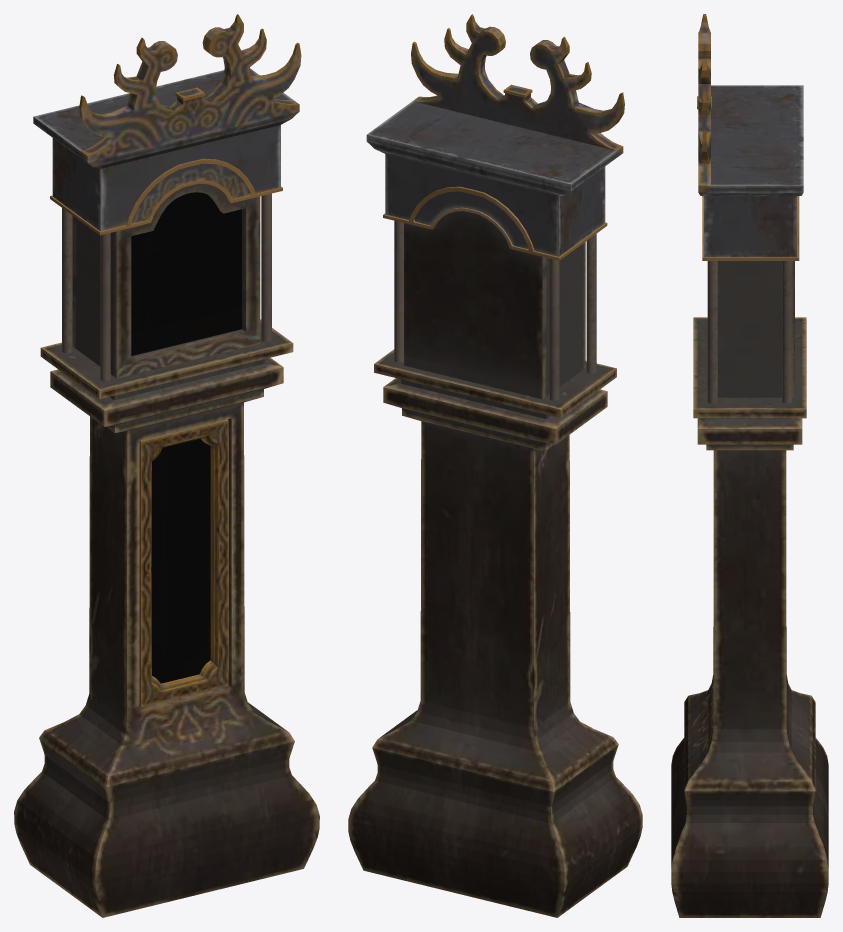
The model's file is relogio.glb.
The picture shows the model from 3 angles, left to right: view 1: azimuth 30°, elevation 25°; view 2: azimuth 150°, elevation 25°; view 3: azimuth 270°, elevation 25°; orthographic projection. The views are drawn at different scales.
Size of the model in its own units: 0.5237 by 1.91 by 0.3274.
Materials: 2 (2 with a texture image).
